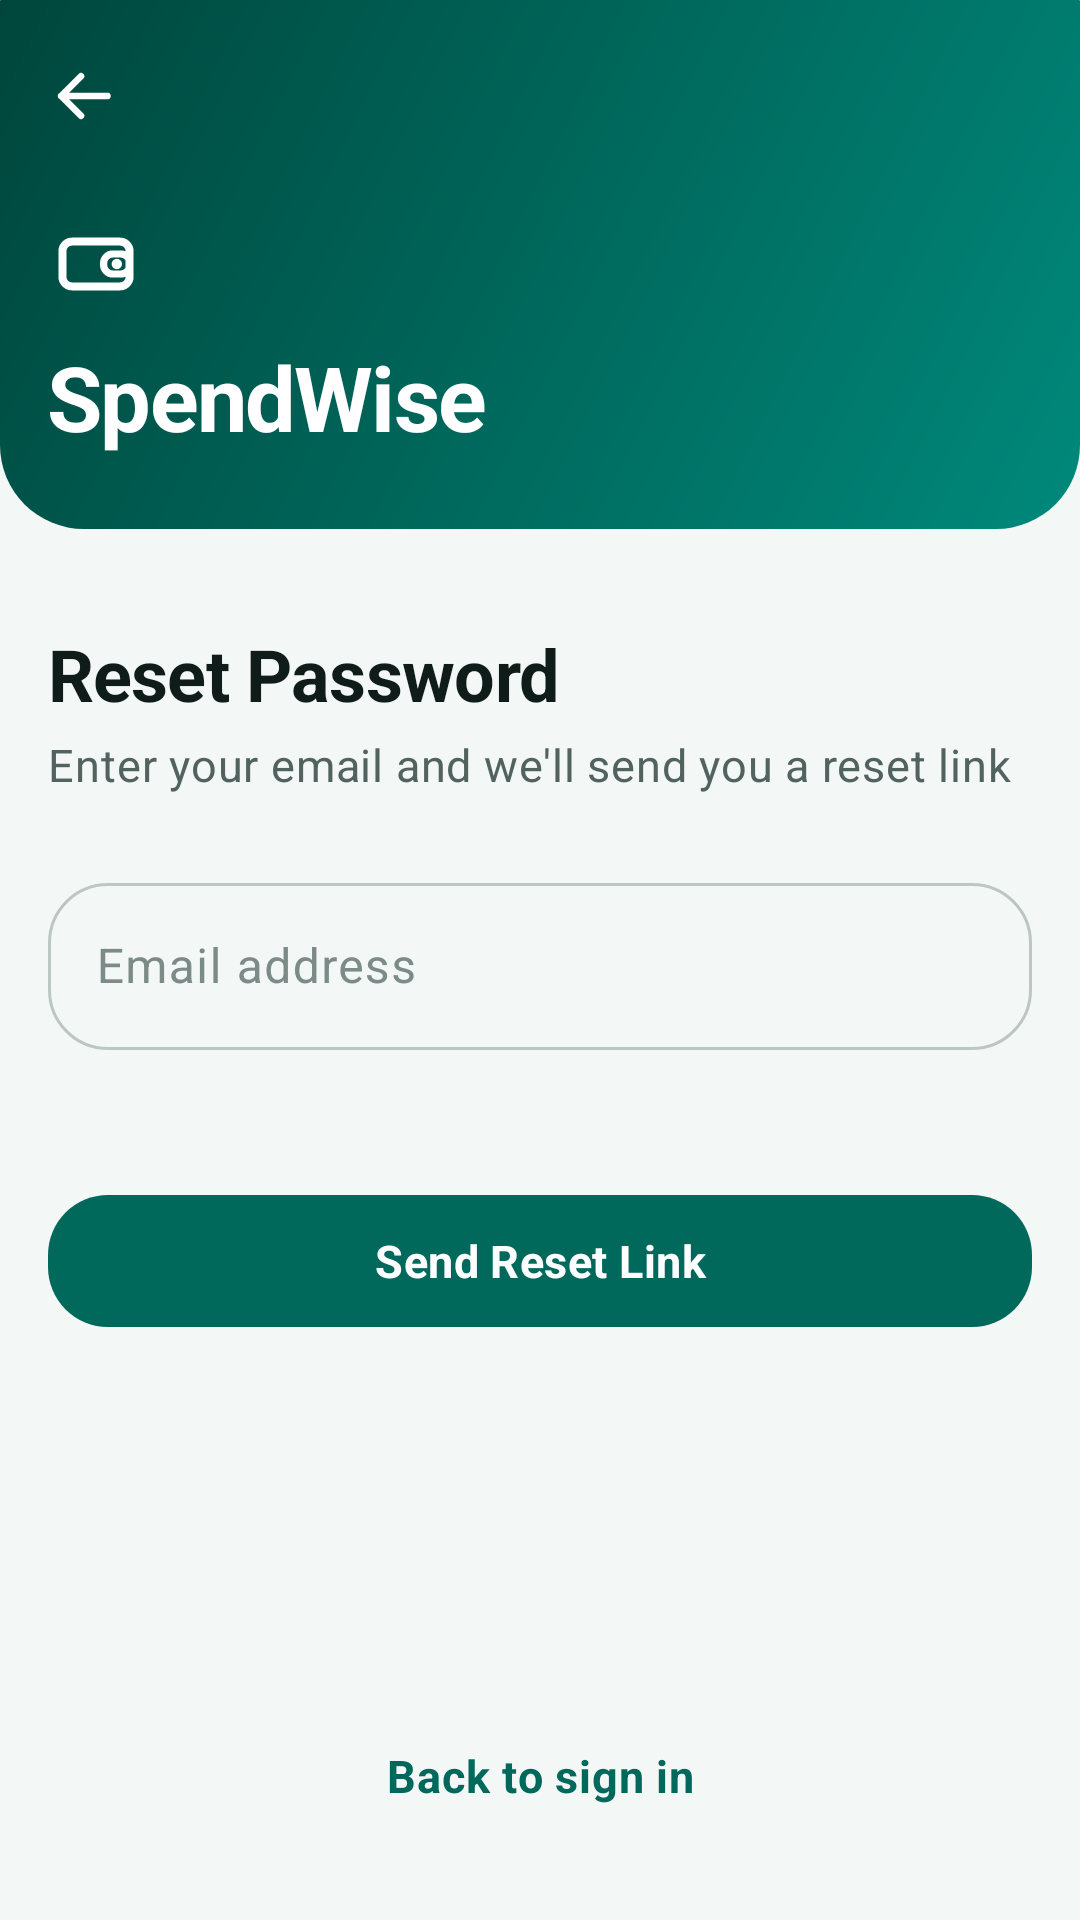

Named icons in this screenshot (1080×1920) and their centers, point (x, y):
Navigate back: point (84, 96)
